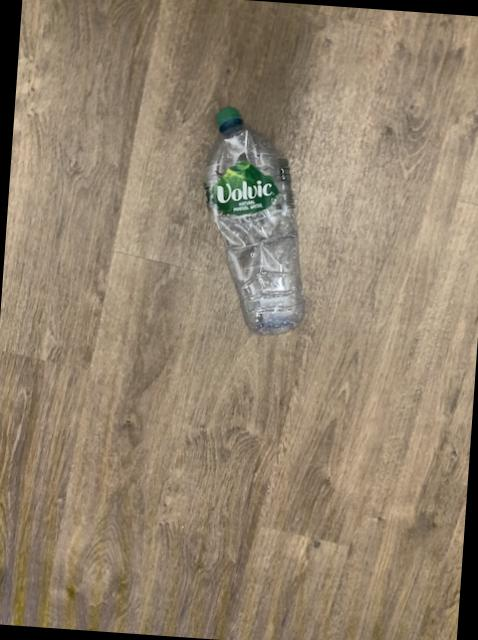plastic: (204, 105, 303, 332)
